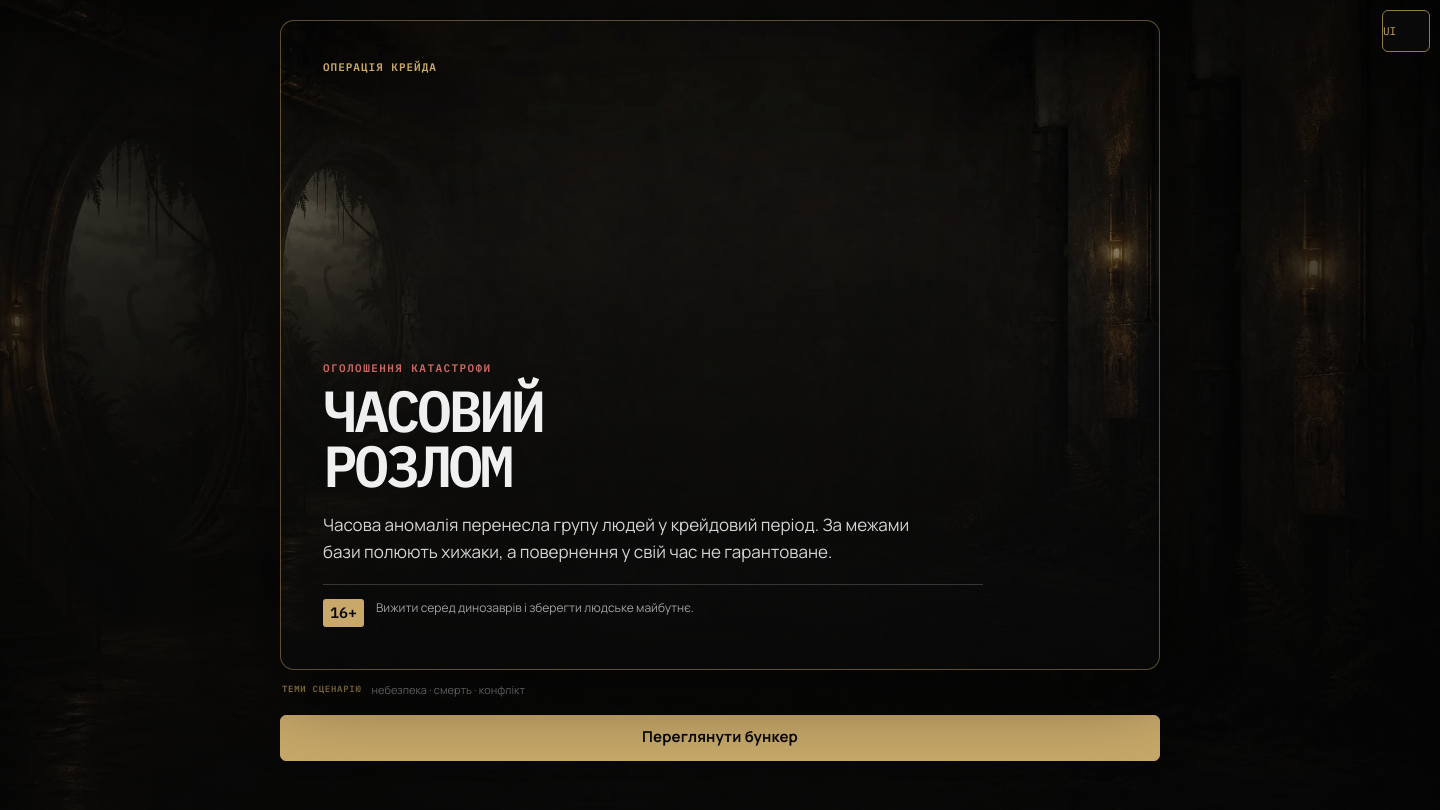
Test: UI preview › switches between game pages without a backend
Expected: the heading "ЧАСОВИЙ РОЗЛОМ" is shown, [323, 373, 542, 503]
Click the heading named "Вибрати екран гри". click: click(1406, 31)
box: [1382, 10, 1430, 52]
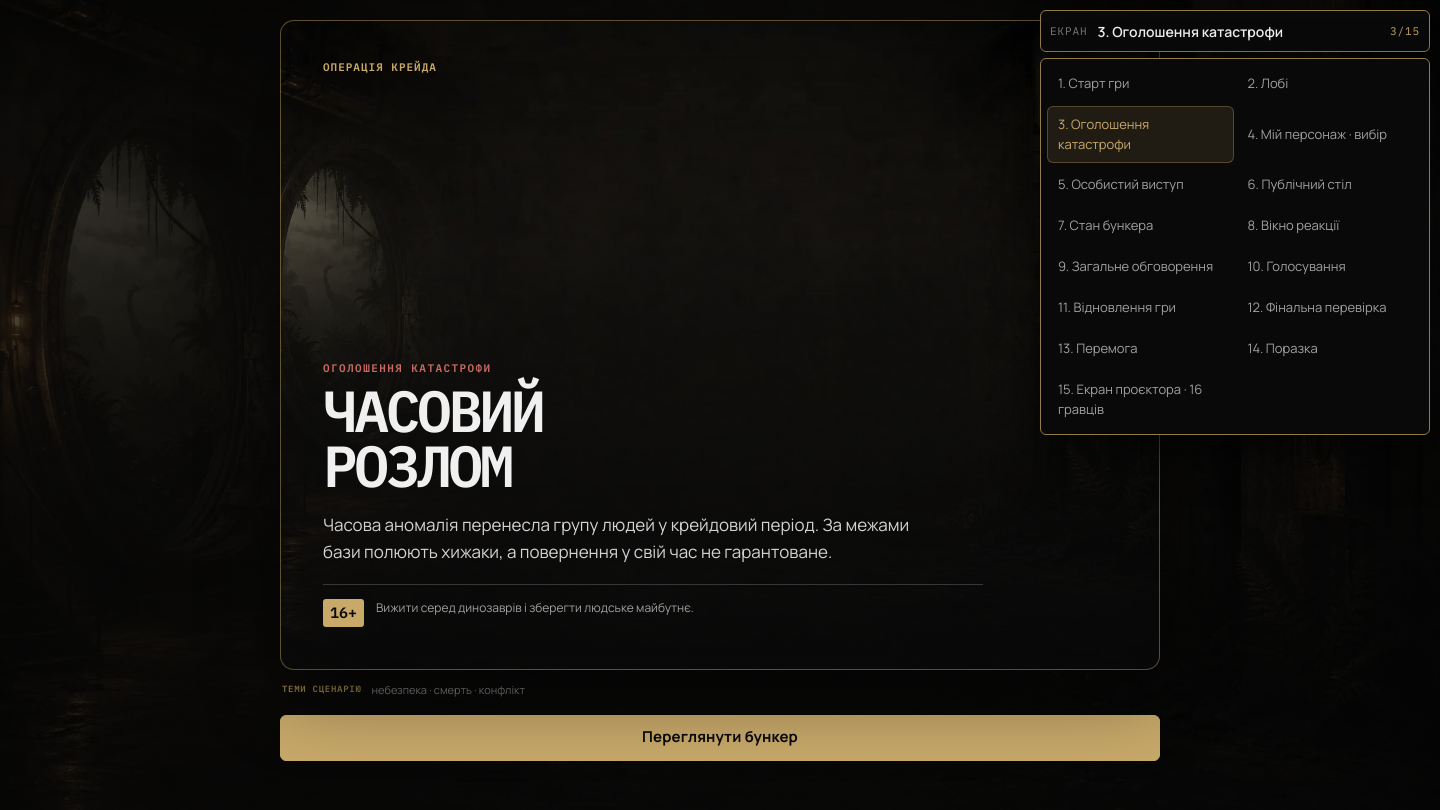
Click the button "9. Загальне обговорення". click: click(1140, 267)
box: [1047, 248, 1234, 286]
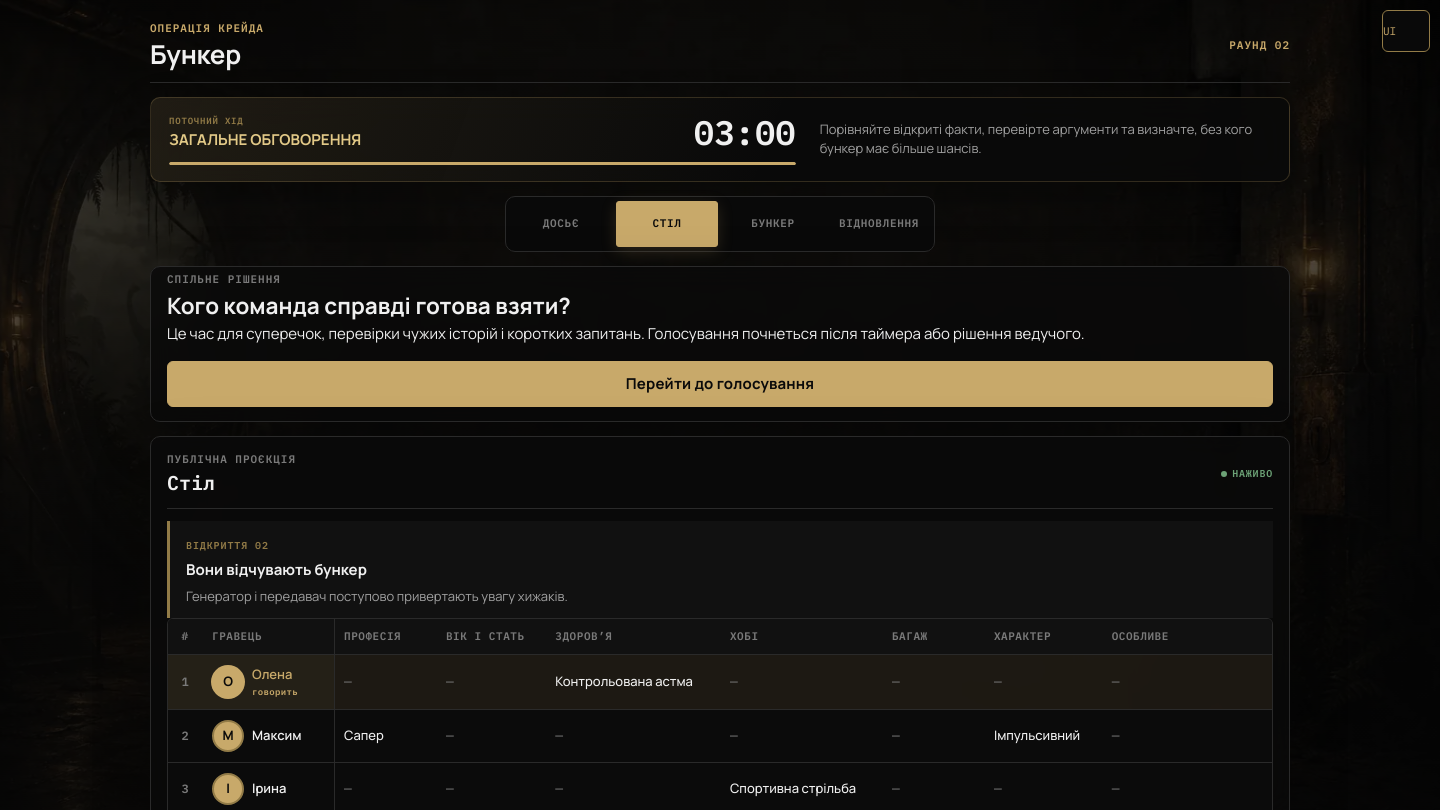
Expected: the text "ЗАГАЛЬНЕ ОБГОВОРЕННЯ" is shown, [169, 129, 361, 152]
